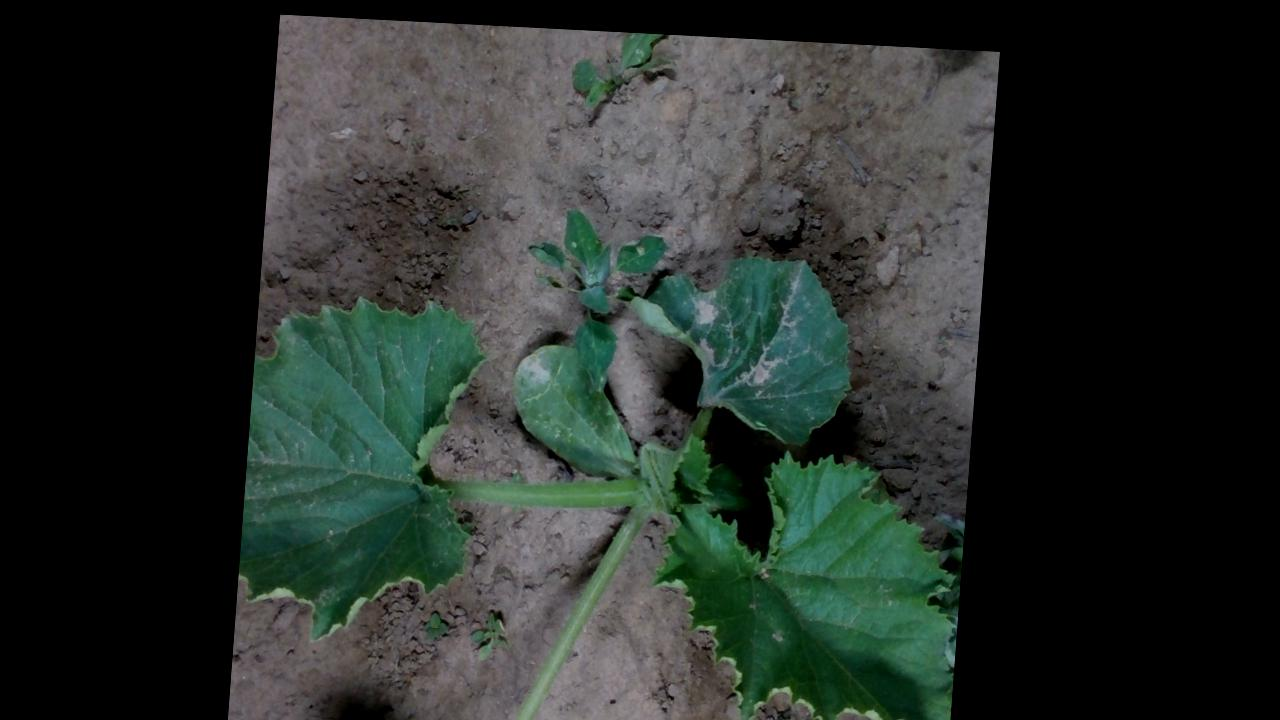weed: (568, 23, 679, 115), (476, 608, 524, 658), (431, 604, 461, 637)
